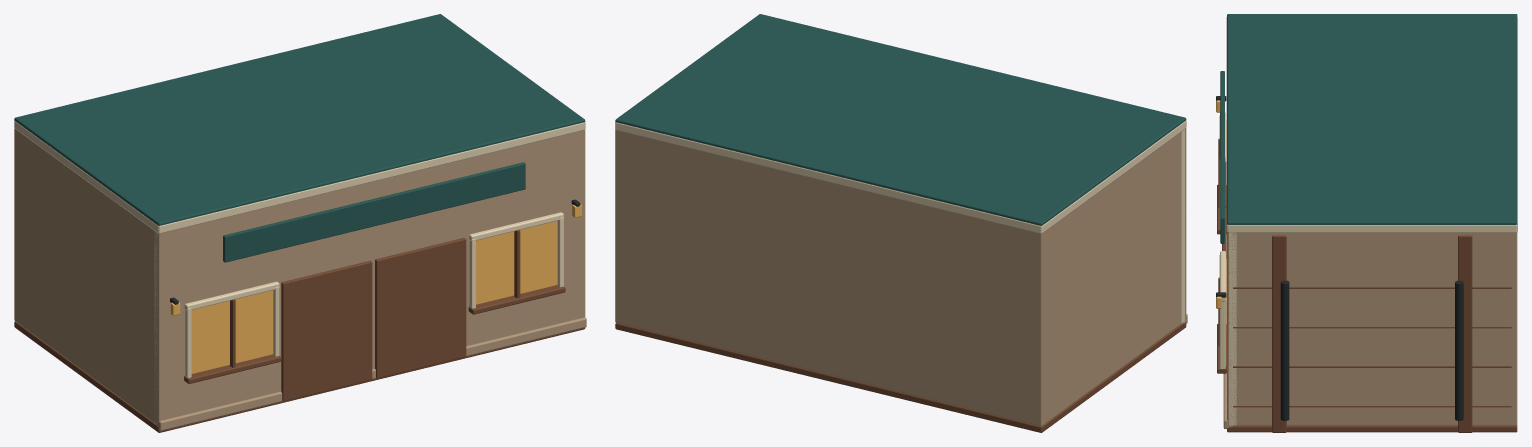
File: NQ-BLD-09.glb
The picture shows the model from 3 angles, left to right: view 1: azimuth 30°, elevation 25°; view 2: azimuth 150°, elevation 25°; view 3: azimuth 270°, elevation 25°; orthographic projection.
Visible parts, largest first — view 1: ClosedSupportingVolume, Roof_RemoveForInteriorReview, LoadingDoorLeaf, LoadingDoorLeaf.001, NQ-SGN-09, WindowGraphicProxy, WindowGraphicProxy.001, CreamRoofCornice, PlinthBand, Floor, CreamSideCornice, WindowSill.001 (+4 smaller); view 2: ClosedSupportingVolume, Roof_RemoveForInteriorReview, Floor, CreamRoofCornice.001, CreamSideCornice, CornerTrim; view 3: Roof_RemoveForInteriorReview, ClosedSupportingVolume, CreamSideCornice.001, SideBrickPilaster.001, SideBrickPilaster, Floor, CornerTrim.001, RightWallPipe, RightWallPipe.001, NQ-SGN-09, SideMasonryCourse, SideMasonryCourse.001 (+4 smaller).
Part boxes in pixels (bbox=[...]): ClosedSupportingVolume: bbox=[14, 128, 585, 424]; Roof_RemoveForInteriorReview: bbox=[14, 14, 585, 225]; LoadingDoorLeaf: bbox=[281, 260, 372, 401]; LoadingDoorLeaf.001: bbox=[375, 238, 466, 378]; NQ-SGN-09: bbox=[223, 162, 525, 262]; WindowGraphicProxy: bbox=[191, 290, 273, 373]; WindowGraphicProxy.001: bbox=[476, 221, 557, 304]; CreamRoofCornice: bbox=[159, 122, 585, 233]; PlinthBand: bbox=[156, 317, 586, 430]; Floor: bbox=[14, 321, 585, 432]; CreamSideCornice: bbox=[14, 120, 158, 233]; WindowSill.001: bbox=[468, 285, 565, 314]; ClosedSupportingVolume: bbox=[615, 128, 1186, 426]; Roof_RemoveForInteriorReview: bbox=[615, 14, 1186, 225]; Floor: bbox=[615, 323, 1186, 432]; CreamRoofCornice.001: bbox=[615, 122, 1041, 233]; CreamSideCornice: bbox=[1041, 120, 1186, 233]; CornerTrim: bbox=[1181, 129, 1185, 323]; Roof_RemoveForInteriorReview: bbox=[1227, 14, 1517, 224]; ClosedSupportingVolume: bbox=[1227, 232, 1517, 425]; CreamSideCornice.001: bbox=[1227, 224, 1517, 232]; SideBrickPilaster.001: bbox=[1458, 235, 1472, 432]; SideBrickPilaster: bbox=[1272, 235, 1286, 432]; Floor: bbox=[1227, 425, 1517, 432]; CornerTrim.001: bbox=[1229, 232, 1236, 425]; RightWallPipe: bbox=[1280, 280, 1289, 420]; RightWallPipe.001: bbox=[1455, 280, 1463, 420]; NQ-SGN-09: bbox=[1220, 71, 1224, 243]; SideMasonryCourse: bbox=[1233, 406, 1511, 407]; SideMasonryCourse.001: bbox=[1233, 366, 1511, 367].
Size of the model in its own units: 34.68 by 16 by 20.77.
